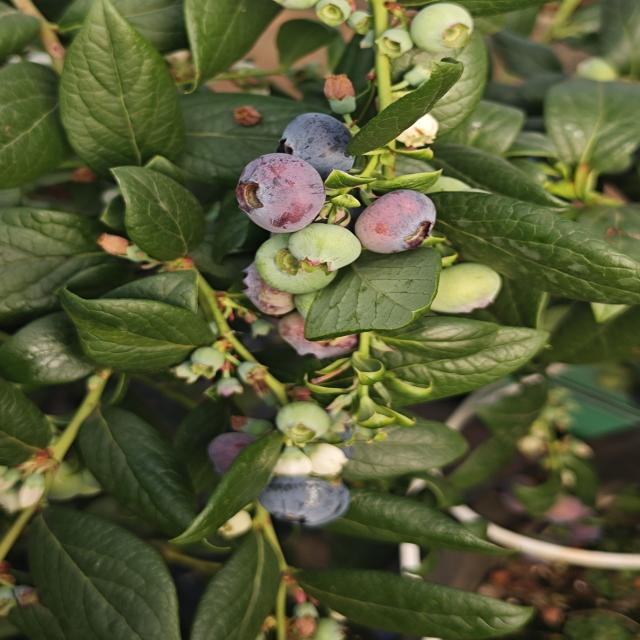ripe: (232, 152, 328, 235), (274, 110, 358, 182), (269, 475, 356, 529), (204, 424, 272, 478)
